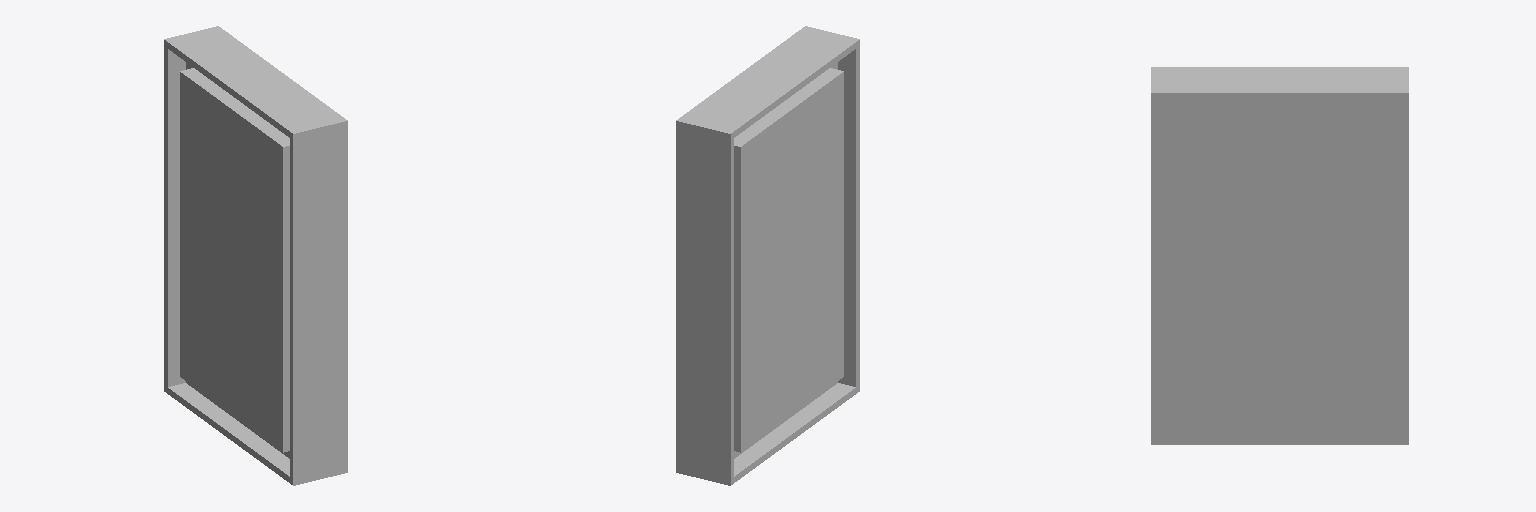
Rendered from door_button.obj.
3 views of the same model, side by side, from view 1: azimuth 30°, elevation 25°; view 2: azimuth 150°, elevation 25°; view 3: azimuth 270°, elevation 25° (orthographic).
Parts seen in each view (by area): view 1: Cube.008_Cube.012; view 2: Cube.008_Cube.012; view 3: Cube.008_Cube.012.
Boxes of the visible parts, x1,y1,x2,y2 form: Cube.008_Cube.012: [164, 26, 347, 485]; Cube.008_Cube.012: [676, 26, 859, 485]; Cube.008_Cube.012: [1151, 67, 1408, 444].
Size of the model in its own units: 0.0812 by 0.5 by 0.3333.